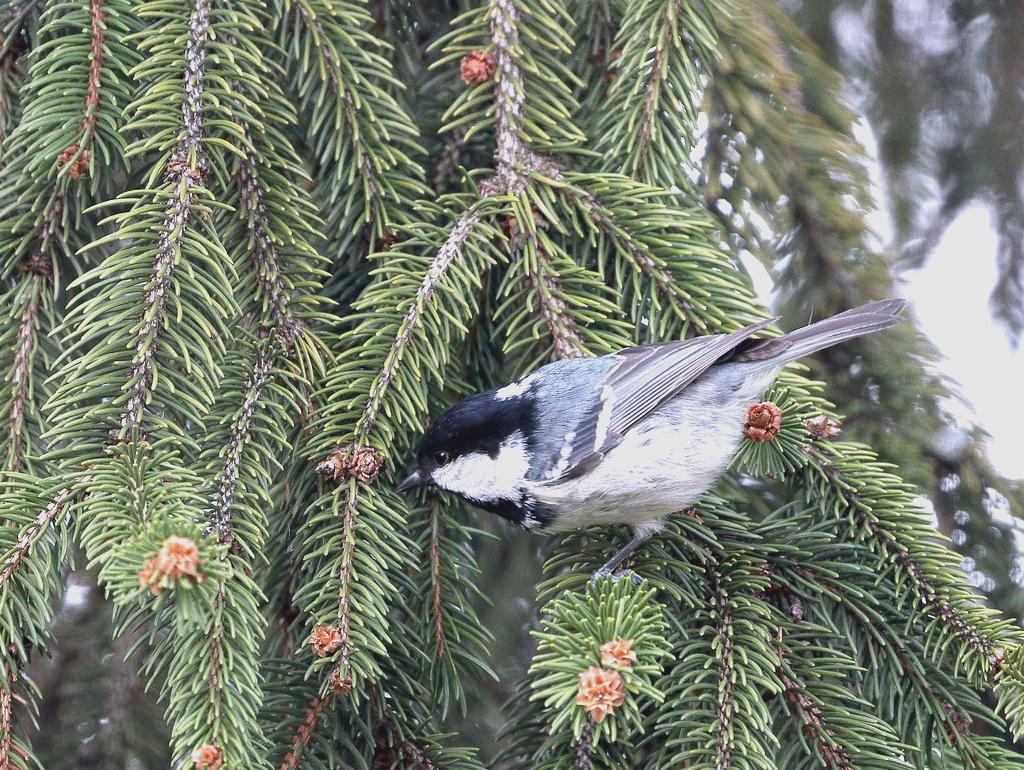PeriparusAter: (391, 292, 908, 584)
